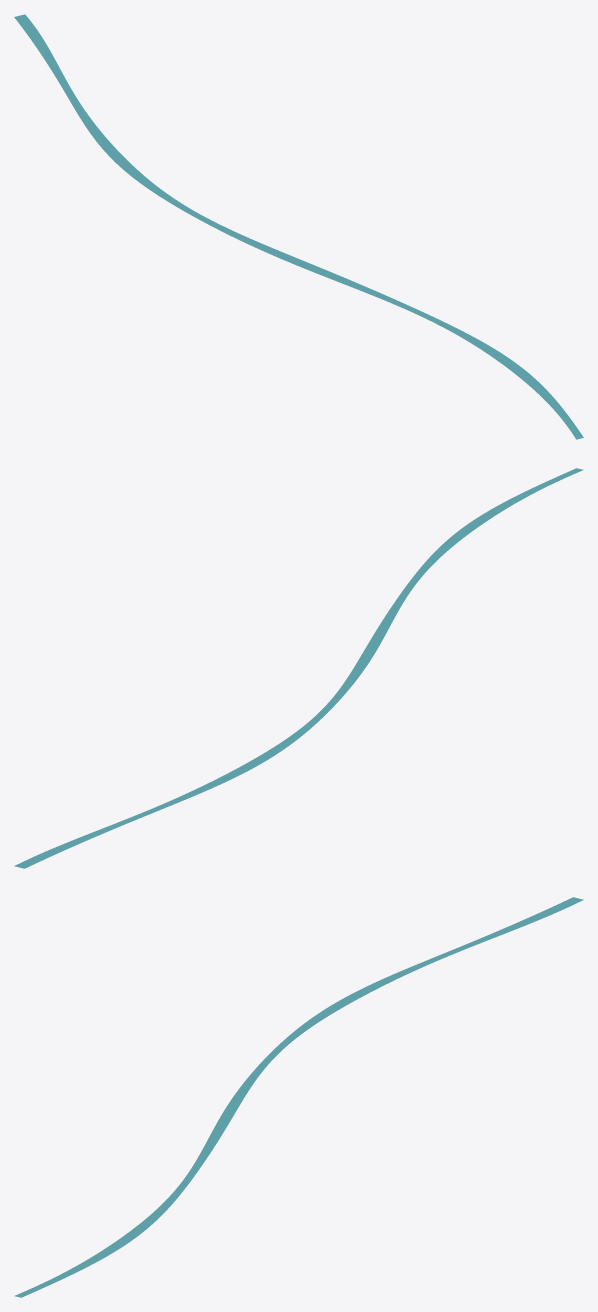
Rendered from beech_stream.glb.
The picture shows the model from 3 angles, top to bottom: view 1: azimuth 30°, elevation 25°; view 2: azimuth 150°, elevation 25°; view 3: azimuth 330°, elevation 25°; orthographic projection. The views are drawn at different scales.
Parts seen in each view (by area): view 1: beech_stream.004; view 2: beech_stream.004; view 3: beech_stream.004.
Boxes of the visible parts, x1,y1,x2,y2 form: beech_stream.004: (14, 14, 583, 439); beech_stream.004: (14, 468, 583, 868); beech_stream.004: (14, 897, 583, 1297).
Size of the model in its own units: 78.46 by 0 by 800.
